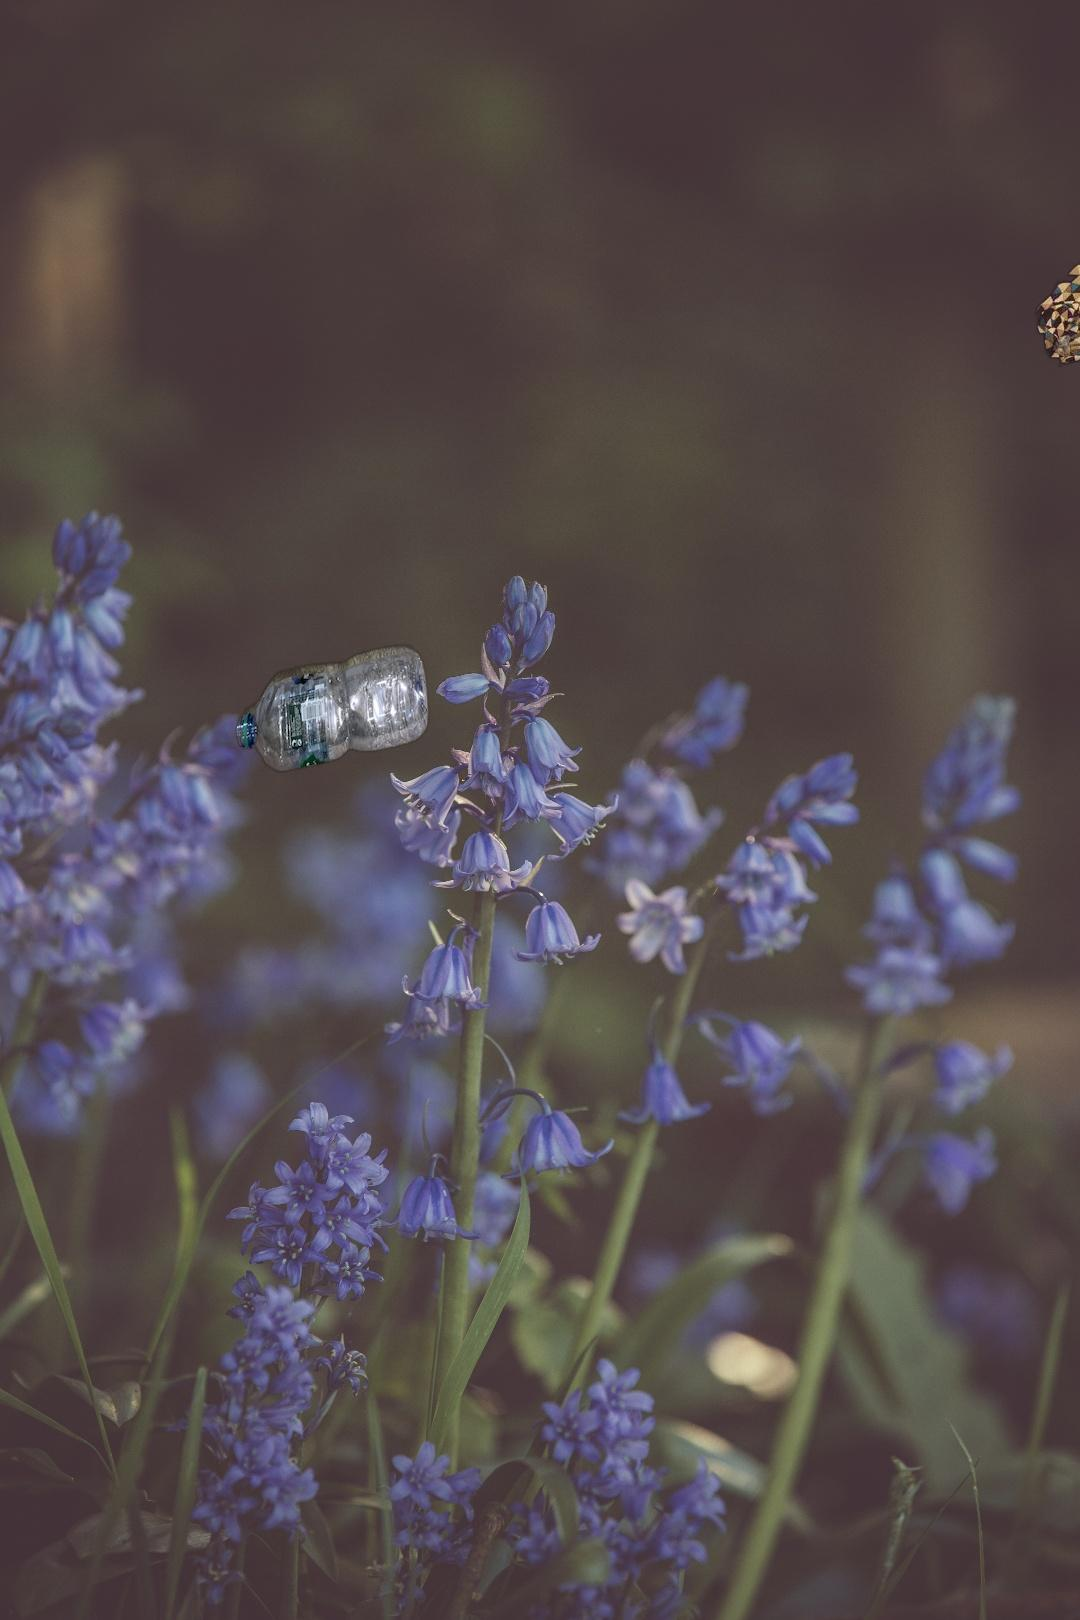clothes: (1032, 175, 1080, 554)
plastic-bottles: (231, 641, 433, 776)
